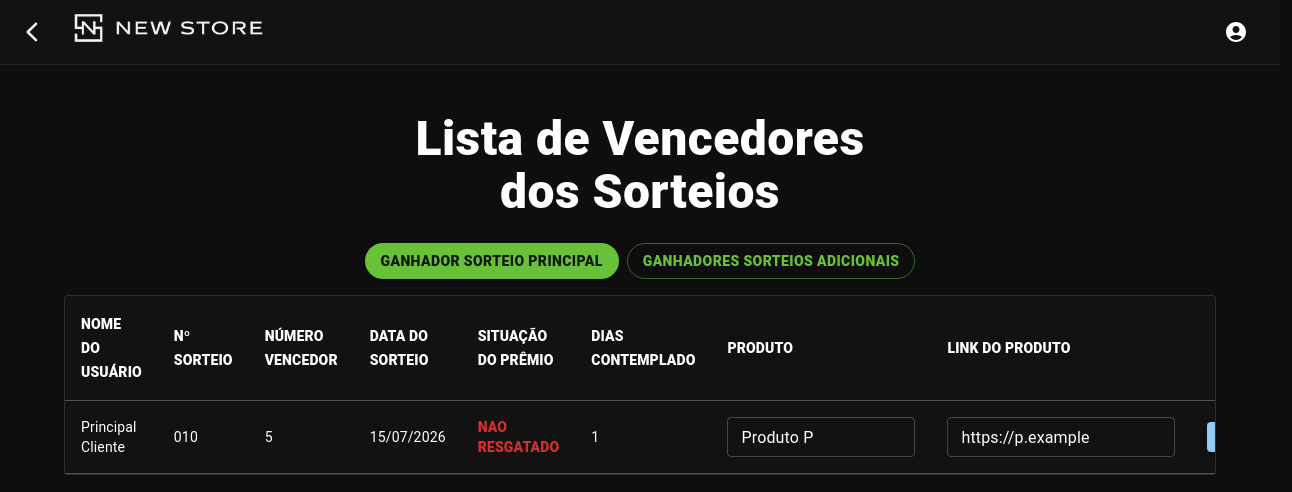
Scenario: erro ao carregar adicionais tambem mostra erro, nao lista vazia
Expected: the text "Principal Cliente" is shown, [65, 401, 158, 474]
Step 1. Click the button "Ganhadores Sorteios Adicionais" → (771, 261), box [627, 243, 916, 279]
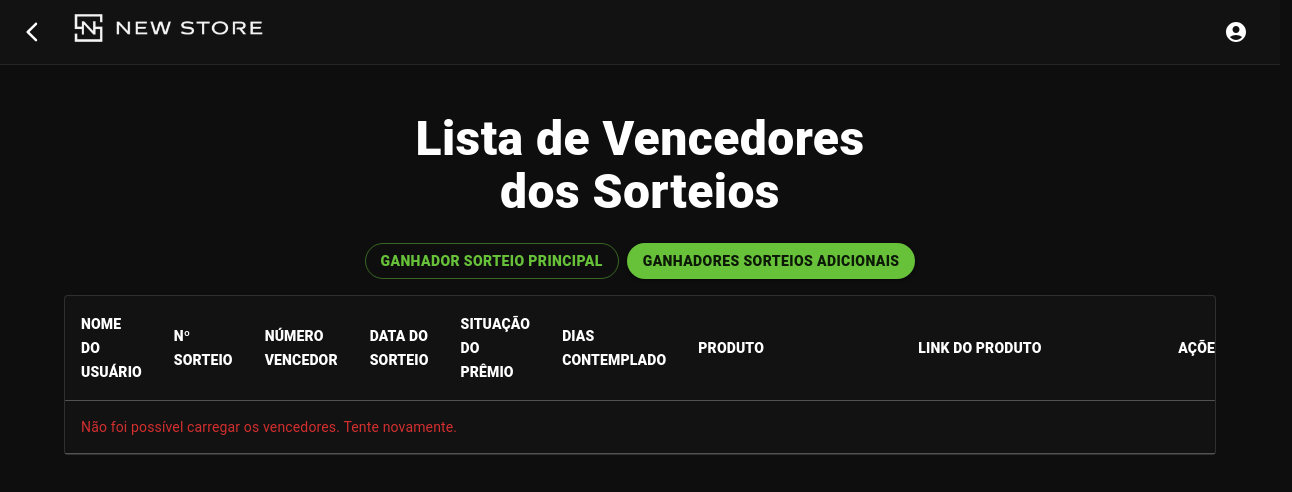
Result: the message "Não foi possível carregar os vencedores. Tente novamente." is shown at [65, 401, 1215, 454]
